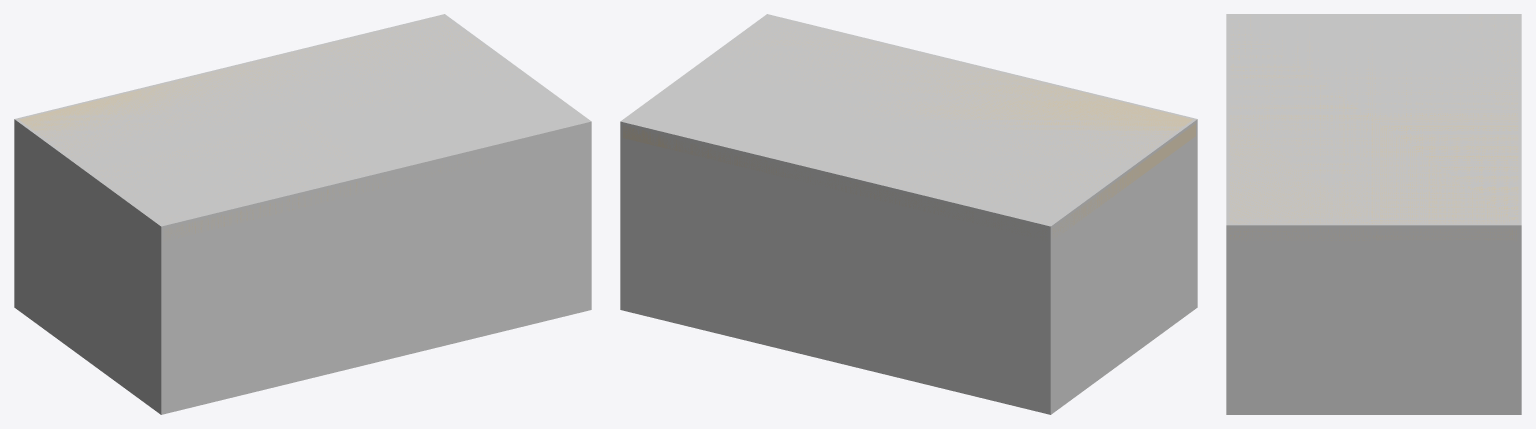
File: coffee-table_basic.glb
3 renders of one model, left to right at view 1: azimuth 30°, elevation 25°; view 2: azimuth 150°, elevation 25°; view 3: azimuth 270°, elevation 25°, orthographic.
Visible parts, largest first — view 1: COL_coffee-table, MESH_Top; view 2: COL_coffee-table, MESH_Top; view 3: COL_coffee-table, MESH_Top.
Part boxes in pixels (x1,y1,x2,y2): COL_coffee-table: (14, 14, 591, 414); MESH_Top: (18, 18, 526, 241); COL_coffee-table: (620, 14, 1197, 414); MESH_Top: (623, 19, 1195, 239); COL_coffee-table: (1226, 14, 1521, 414); MESH_Top: (1229, 15, 1518, 241).
Bounding box in the file's own units: 1.1 × 0.46 × 0.65.
